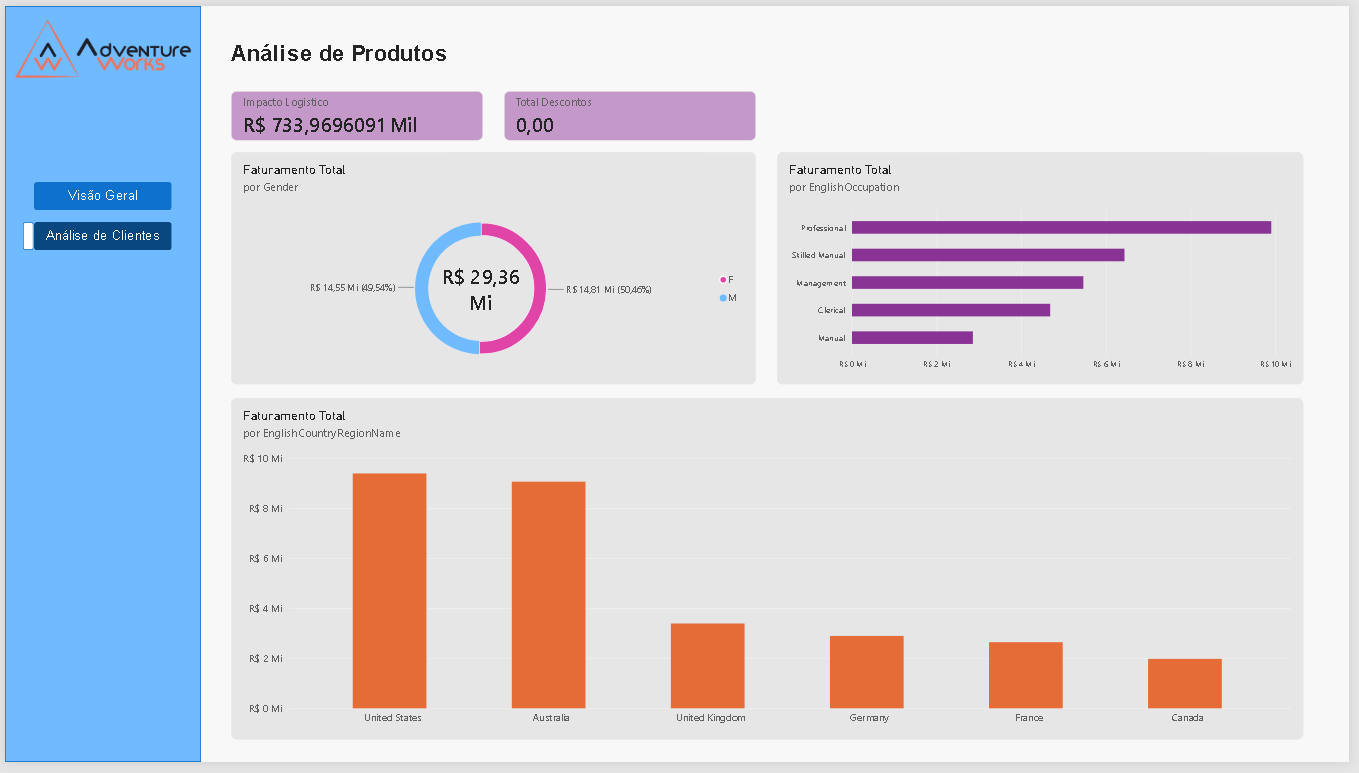

The page's visual inventory and layout, read from the dashboard file:
{"tool":"powerbi","page":{"name":"Análise de Clientes","canvas":[1920,1080],"ordinal":1},"visuals":[{"type":"shape","box":[0,0,280,1080],"z":0},{"type":"image","box":[0,0,280,122],"z":1000},{"type":"textbox","box":[323.3,48.3,360,40],"z":2000},{"type":"donutChart","title":"Faturamento por Gênero","fields":{"Category":["DimCustomer.Gender"],"Y":["FactInternetSales.Faturamento Total"]},"box":[323.3,208.3,750,331.7],"z":3000},{"type":"cardVisual","fields":{"Data":["FactInternetSales.Clientes Ativos"]},"box":[323.3,121.7,360,71.7],"z":4000},{"type":"cardVisual","fields":{"Data":["FactInternetSales.Total Pedidos"]},"box":[712.5,121.2,360,72],"z":5000},{"type":"cardVisual","fields":{"Data":["FactInternetSales.Ticket Medio"]},"box":[1103.3,121.7,358.3,71.7],"z":6000},{"type":"clusteredColumnChart","title":"Faturamento por País","fields":{"Category":["DimGeography.EnglishCountryRegionName"],"Y":["FactInternetSales.Faturamento Total"]},"box":[323.3,560,1531.7,488.3],"z":7000},{"type":"barChart","title":"Faturamento por Profissão","fields":{"Category":["DimCustomer.EnglishOccupation"],"Y":["FactInternetSales.Faturamento Total"]},"box":[1103.3,208.3,751.7,331.7],"z":8000},{"type":"actionButton","box":[41.7,250.8,196.7,40],"z":9000},{"type":"actionButton","box":[41.7,308.3,196.7,40],"z":10000},{"type":"shape","box":[25,308.5,12,40],"z":11000},{"type":"cardVisual","fields":{"Data":["FactInternetSales.Frequência de Compra"]},"box":[1495.7,121.4,358.6,71.4],"z":12000},{"type":"actionButton","box":[41.7,361.2,196.7,40],"z":12001}]}

Visuals, with their boxes on the page's 1920x1080 design canvas (x1, y1, x2, y2). These are canvas units, not pixel positions in the 1359x773 screenshot, which may show the page scaled, cropped or inside an application window:
shape: <bbox>0, 0, 280, 1080</bbox>
image: <bbox>0, 0, 280, 122</bbox>
textbox: <bbox>323, 48, 683, 88</bbox>
"Faturamento por Gênero" donutChart: <bbox>323, 208, 1073, 540</bbox>
cardVisual - FactInternetSales.Clientes Ativos: <bbox>323, 122, 683, 193</bbox>
cardVisual - FactInternetSales.Total Pedidos: <bbox>712, 121, 1072, 193</bbox>
cardVisual - FactInternetSales.Ticket Medio: <bbox>1103, 122, 1462, 193</bbox>
"Faturamento por País" clusteredColumnChart: <bbox>323, 560, 1855, 1048</bbox>
"Faturamento por Profissão" barChart: <bbox>1103, 208, 1855, 540</bbox>
actionButton: <bbox>42, 251, 238, 291</bbox>
actionButton: <bbox>42, 308, 238, 348</bbox>
shape: <bbox>25, 308, 37, 348</bbox>
cardVisual - FactInternetSales.Frequência de Compra: <bbox>1496, 121, 1854, 193</bbox>
actionButton: <bbox>42, 361, 238, 401</bbox>
